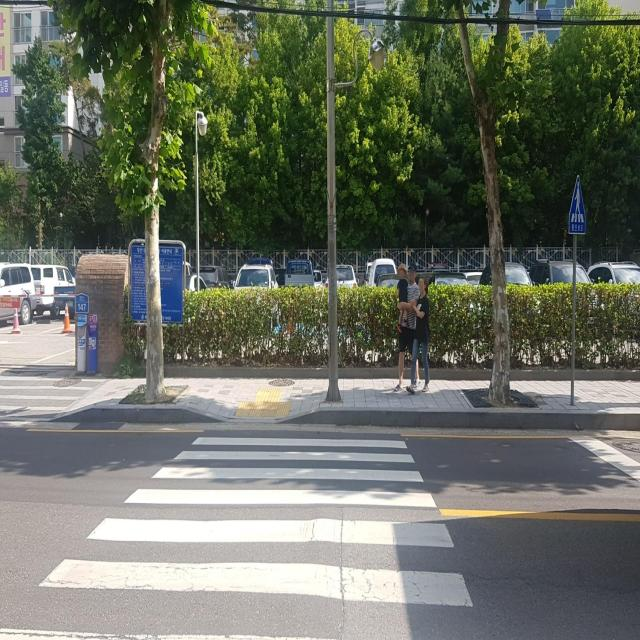횡단보도: (0, 430, 476, 640)
